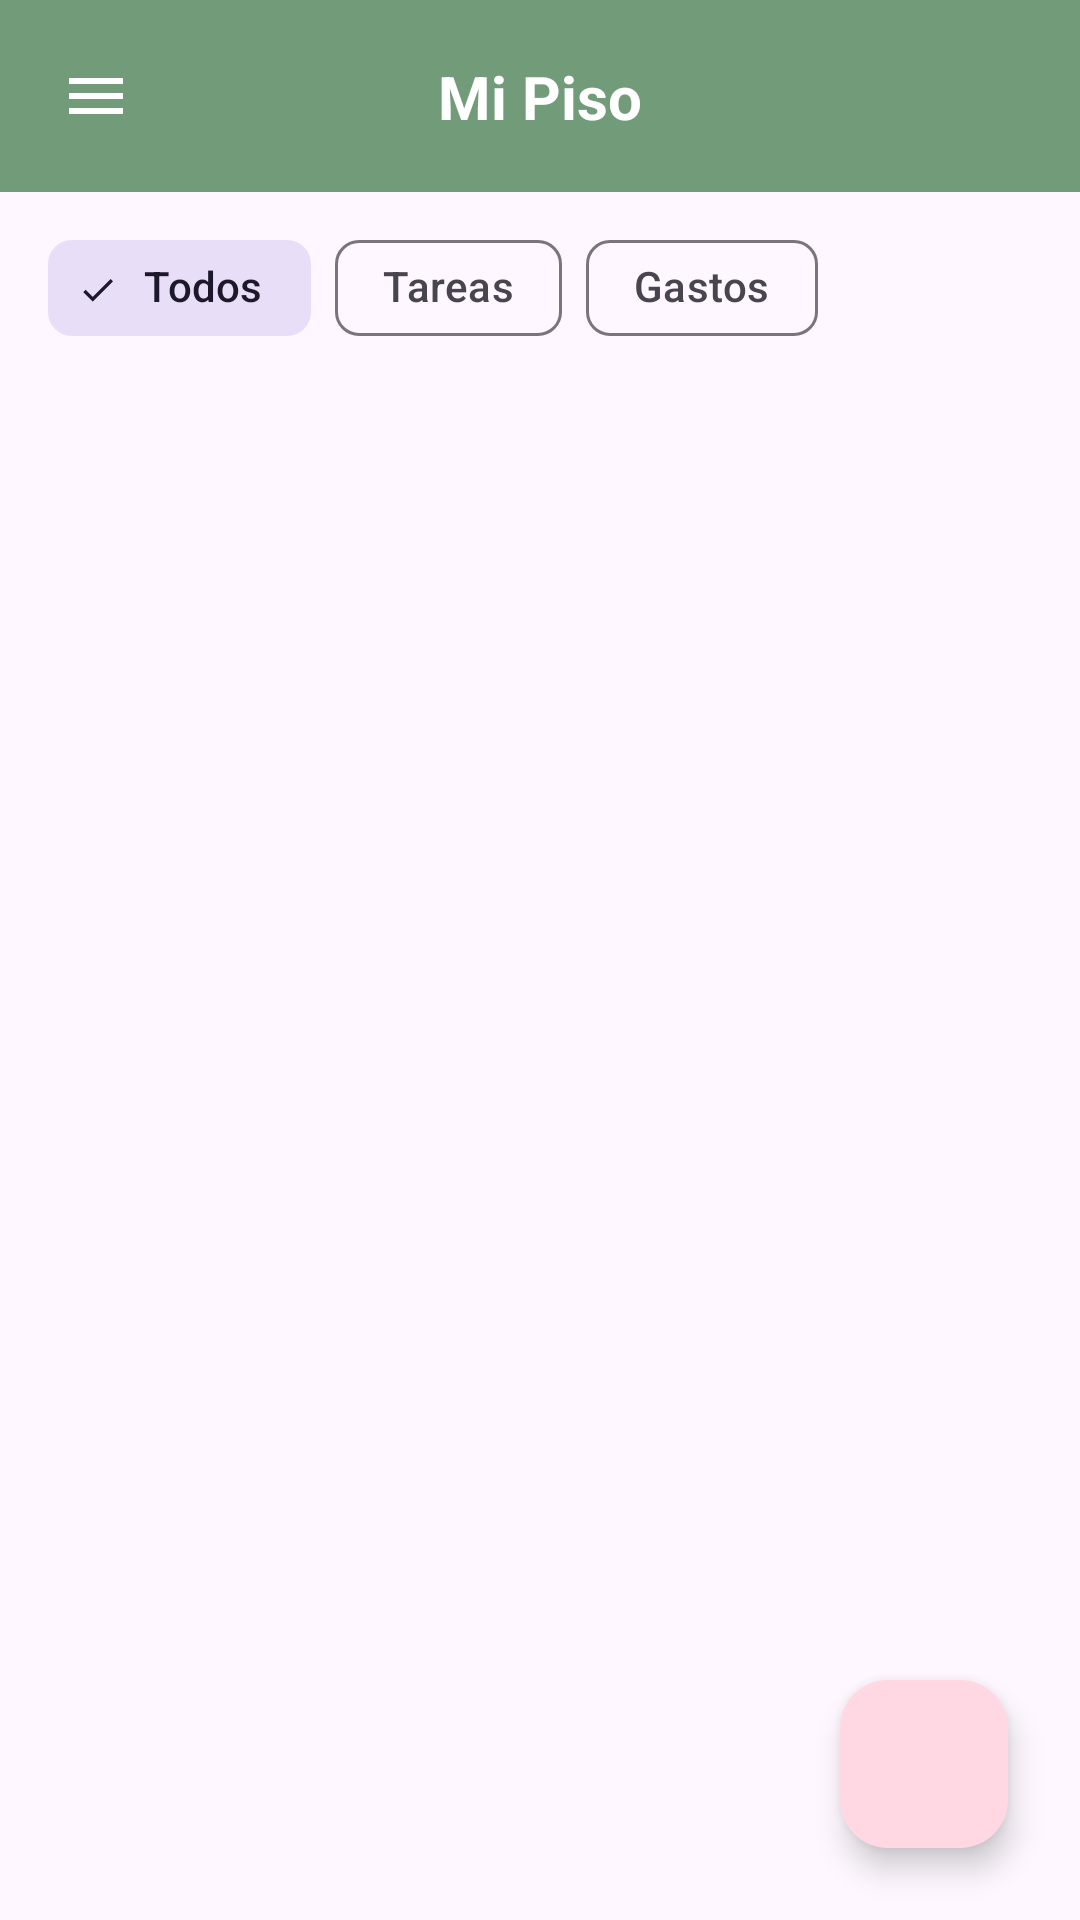

Icon bounding boxes for this 1080x1920 phone screenshot, format (x1, y1, x2, y2):
Abrir menú lateral: (69, 78, 123, 114)
